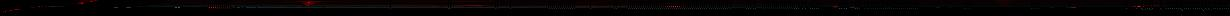Blue cone: (13, 9, 19, 10), (30, 7, 36, 8)
Yellow cone: (300, 1, 318, 6), (831, 5, 839, 8)
